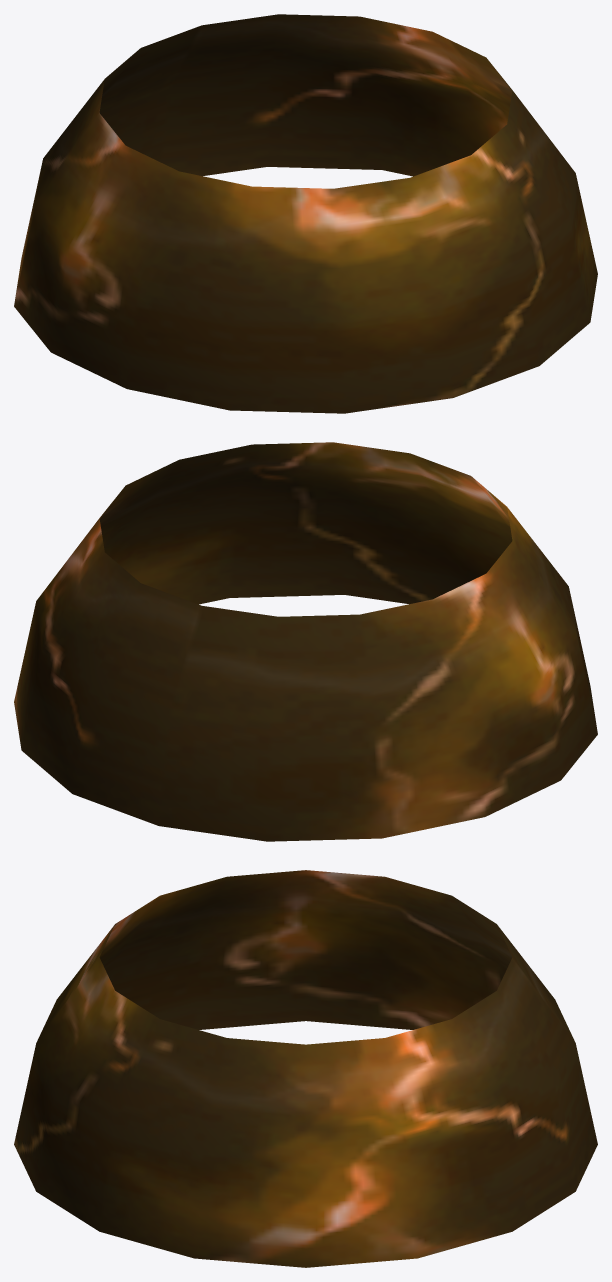
File: shpere.FBX
The picture shows the model from 3 angles, top to bottom: view 1: azimuth 30°, elevation 25°; view 2: azimuth 150°, elevation 25°; view 3: azimuth 270°, elevation 25°; orthographic projection.
Visible parts, largest first — view 1: Sphere001; view 2: Sphere001; view 3: Sphere001.
Part boxes in pixels (x1,y1,x2,y2): Sphere001: [14, 14, 597, 413]; Sphere001: [14, 442, 597, 841]; Sphere001: [14, 870, 597, 1267].
Bounding box in the file's own units: 40 × 14.14 × 40.
